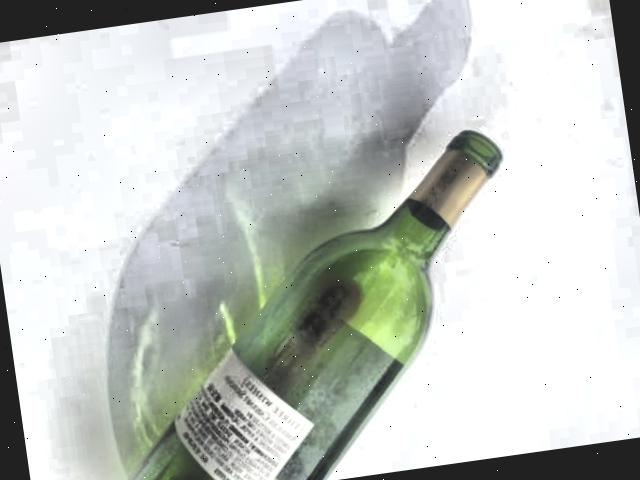Bottles: (34, 96, 584, 480)
